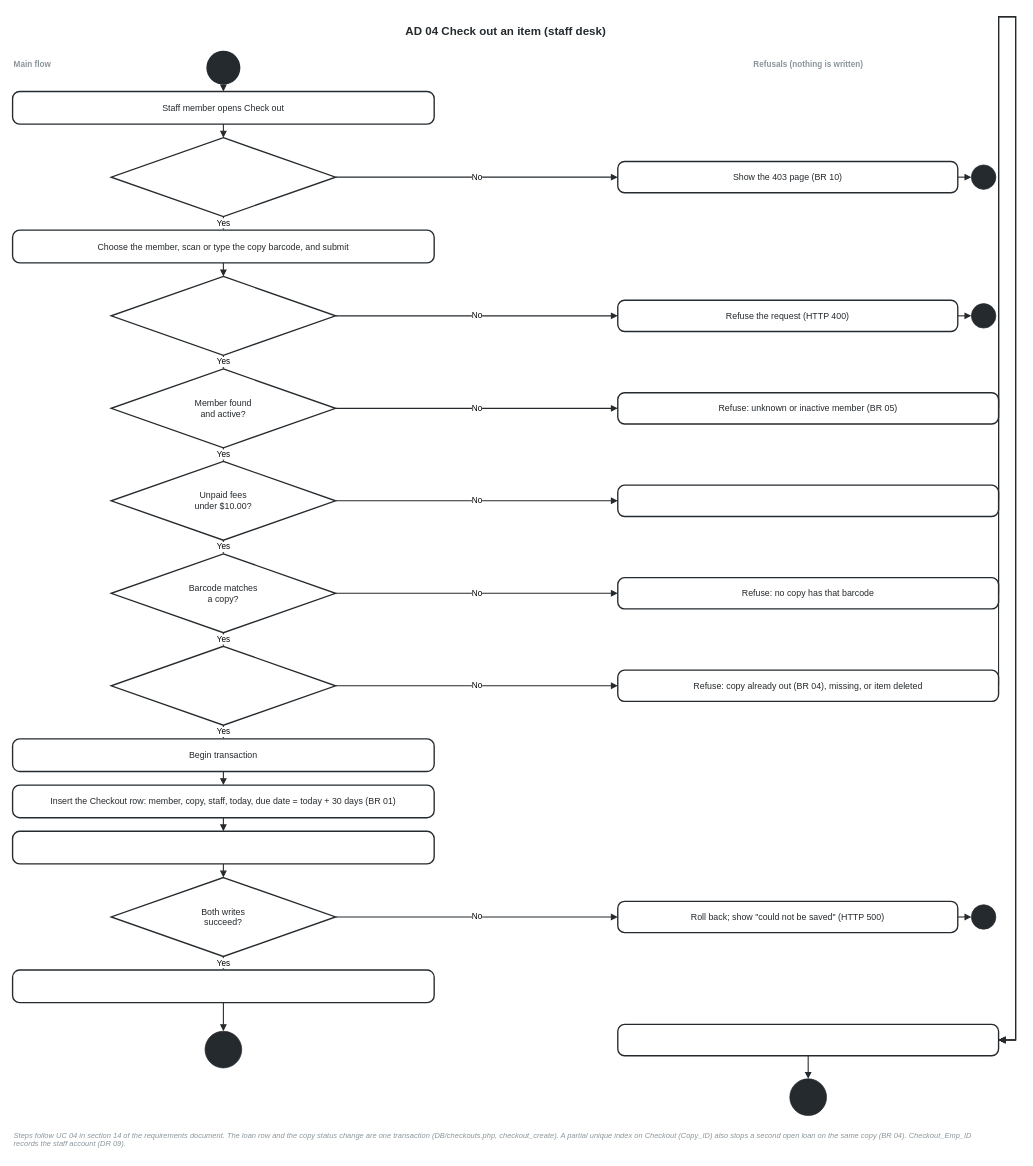
The diagram is 1033 pixels wide and 1166 high, and some of its shapes have lost their labels. The shapes that lost their labels are listed below. From the top down, each one's centre as x and y in pixels, then its label:
(x=223, y=177): Signed in with the Admin role?
(x=223, y=315): Form token valid?
(x=808, y=500): Refuse: fee balance at or above $10.00 (BR 03)
(x=223, y=685): Copy available and item not deleted?
(x=223, y=847): Set the copy status to checked out
(x=223, y=986): Commit, then redirect (HTTP 303) and show the confirmation with the due date
(x=808, y=1039): Show the message next to the field and keep what was entered (HTTP 422)
